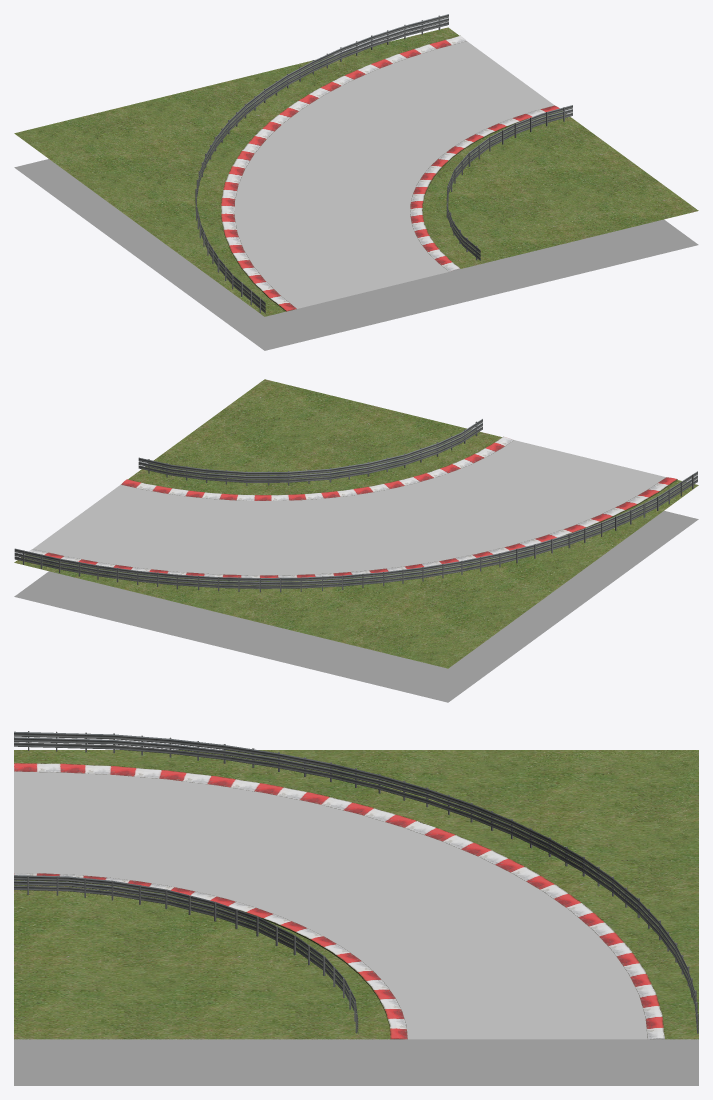
File: Track_Curve_A_Mobile.fbx
3 renders of one model, top to bottom at view 1: azimuth 30°, elevation 25°; view 2: azimuth 150°, elevation 25°; view 3: azimuth 270°, elevation 25°, orthographic. The views are drawn at different scales.
Parts seen in each view (by area): view 1: Grass, Road, Snap_Plane_Invisible, Curb_A, Rail_A, Curb_B, Rail_B; view 2: Grass, Road, Snap_Plane_Invisible, Rail_A, Rail_B, Curb_A, Curb_B; view 3: Grass, Road, Snap_Plane_Invisible, Rail_A, Curb_A, Rail_B, Curb_B.
Part boxes in pixels (bbox=[...]): Grass: bbox=[14, 27, 698, 316]; Road: bbox=[234, 41, 554, 308]; Snap_Plane_Invisible: bbox=[14, 159, 698, 350]; Curb_A: bbox=[221, 35, 466, 311]; Rail_A: bbox=[195, 14, 448, 313]; Curb_B: bbox=[410, 105, 559, 271]; Rail_B: bbox=[446, 105, 572, 260]; Grass: bbox=[14, 379, 698, 668]; Road: bbox=[33, 440, 665, 575]; Snap_Plane_Invisible: bbox=[14, 511, 698, 702]; Rail_A: bbox=[14, 471, 697, 592]; Rail_B: bbox=[138, 419, 482, 485]; Curb_A: bbox=[28, 477, 677, 577]; Curb_B: bbox=[121, 436, 513, 500]; Grass: bbox=[14, 750, 698, 1039]; Road: bbox=[14, 771, 647, 1039]; Snap_Plane_Invisible: bbox=[14, 1039, 698, 1085]; Rail_A: bbox=[14, 731, 698, 1033]; Curb_A: bbox=[14, 763, 664, 1039]; Rail_B: bbox=[14, 875, 358, 1034]; Curb_B: bbox=[14, 873, 407, 1039].
Bounding box in the file's own units: 40 × 4.24 × 40.01.
